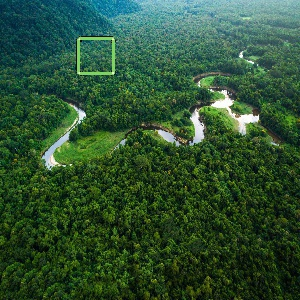square: (76, 36, 116, 76)
